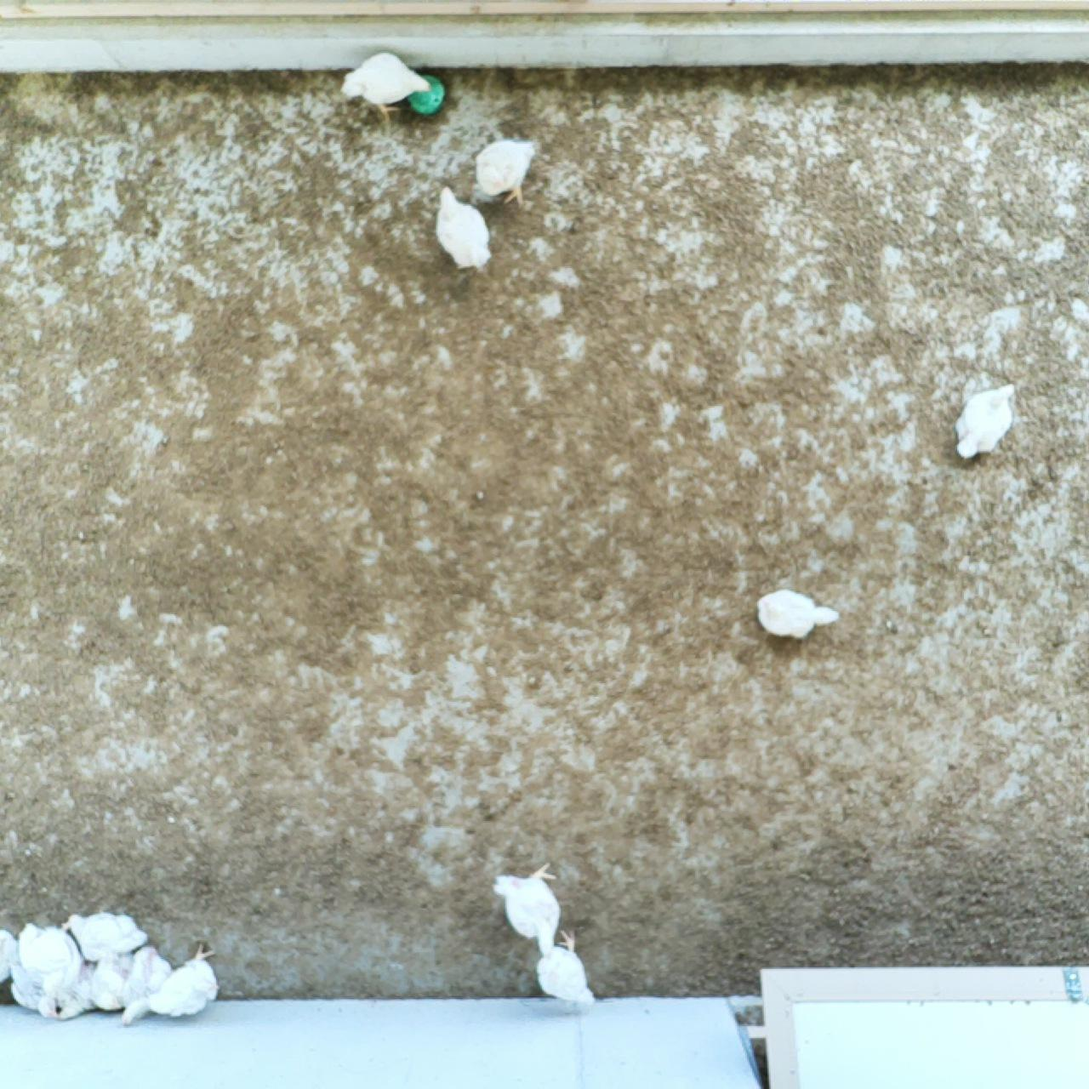chicken: (341, 45, 435, 124), (491, 859, 563, 956), (144, 940, 222, 1017), (946, 382, 1021, 459), (430, 182, 493, 273), (470, 134, 540, 212), (12, 915, 82, 991), (755, 584, 845, 641), (81, 946, 156, 1014), (533, 929, 599, 1006), (119, 945, 176, 1027), (60, 910, 147, 960), (1, 965, 50, 1018), (35, 977, 91, 1017), (0, 921, 23, 984)
